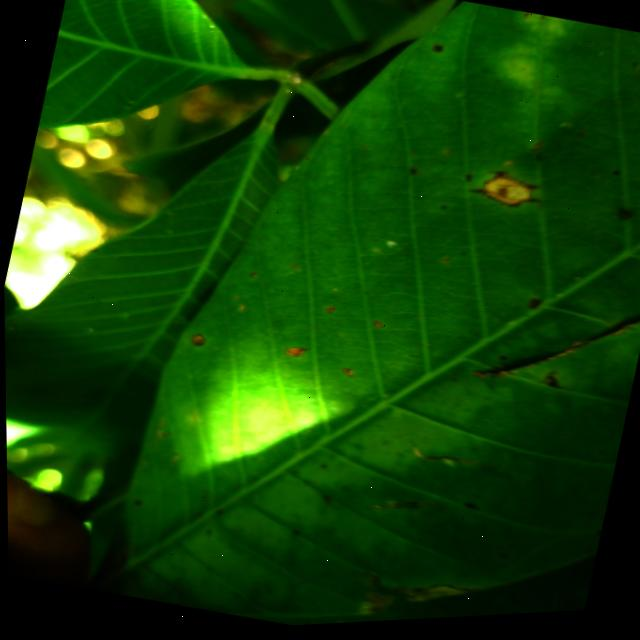Colletotrichum: (190, 335, 205, 349)
Leaf-Blight: (483, 178, 529, 213)
